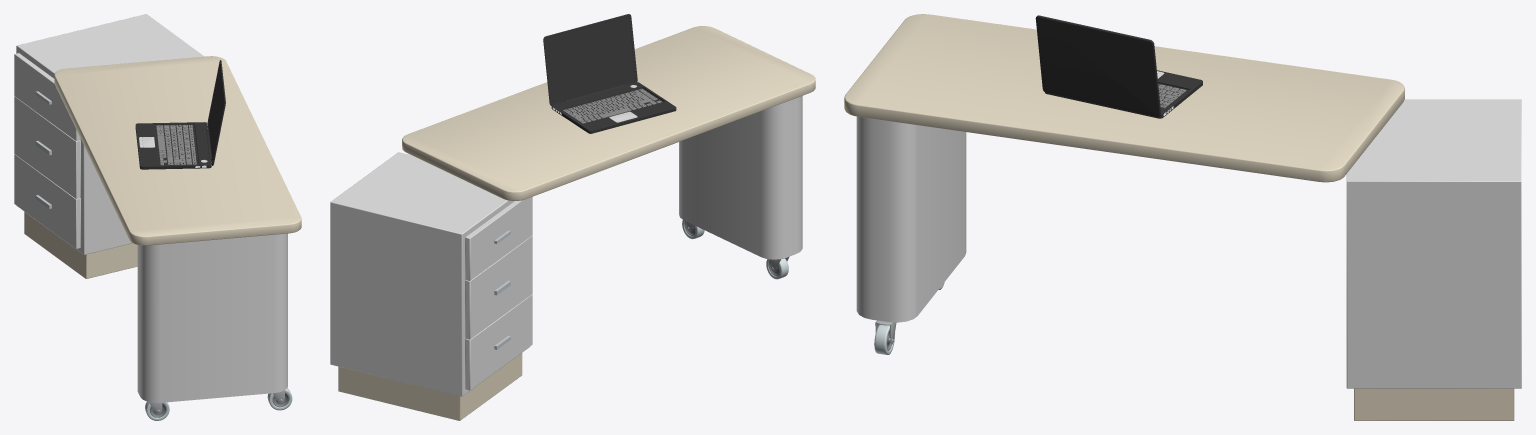
File: RollingDeskWithLaptop.fbx
3 renders of one model, left to right at view 1: azimuth 30°, elevation 25°; view 2: azimuth 150°, elevation 25°; view 3: azimuth 270°, elevation 25°, orthographic. The views are drawn at different scales.
Parts seen in each view (by area): view 1: Desk_2, Chest, Main_2, Screen_2, Wheel_1_13, Wheel_1_14; view 2: Chest, Desk_2, Screen_2, Main_2; view 3: Desk_2, Chest, Screen_2, Main_2.
Boxes of the visible parts, bbox=[...] form: Desk_2: bbox=[54, 56, 301, 402]; Chest: bbox=[14, 14, 204, 278]; Main_2: bbox=[135, 122, 211, 169]; Screen_2: bbox=[206, 60, 225, 165]; Wheel_1_13: bbox=[267, 388, 292, 410]; Wheel_1_14: bbox=[145, 401, 169, 420]; Chest: bbox=[330, 152, 532, 420]; Desk_2: bbox=[402, 26, 815, 259]; Screen_2: bbox=[543, 14, 637, 105]; Main_2: bbox=[551, 82, 676, 133]; Desk_2: bbox=[844, 14, 1404, 322]; Chest: bbox=[1346, 99, 1521, 420]; Screen_2: bbox=[1035, 15, 1161, 117]; Main_2: bbox=[1045, 70, 1202, 118].
Bounding box in the file's own units: 99.27 × 100 × 181.
